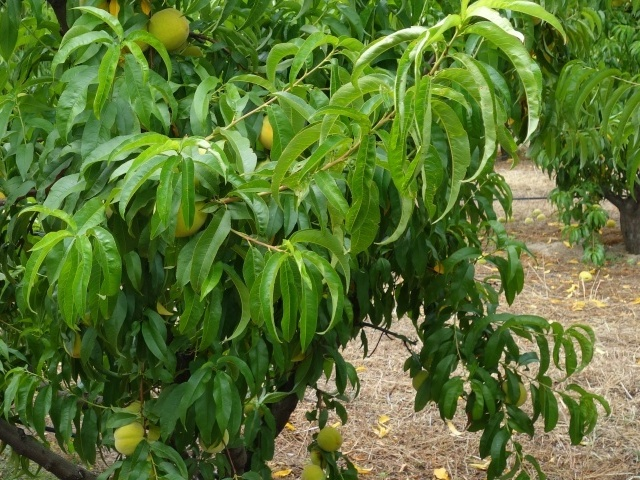peach: (170, 192, 213, 246), (146, 5, 192, 52), (111, 419, 150, 458), (252, 113, 280, 156), (196, 428, 232, 456), (315, 423, 345, 452), (60, 331, 88, 362), (502, 379, 530, 408), (306, 444, 334, 468), (408, 365, 430, 392), (299, 461, 329, 479)
